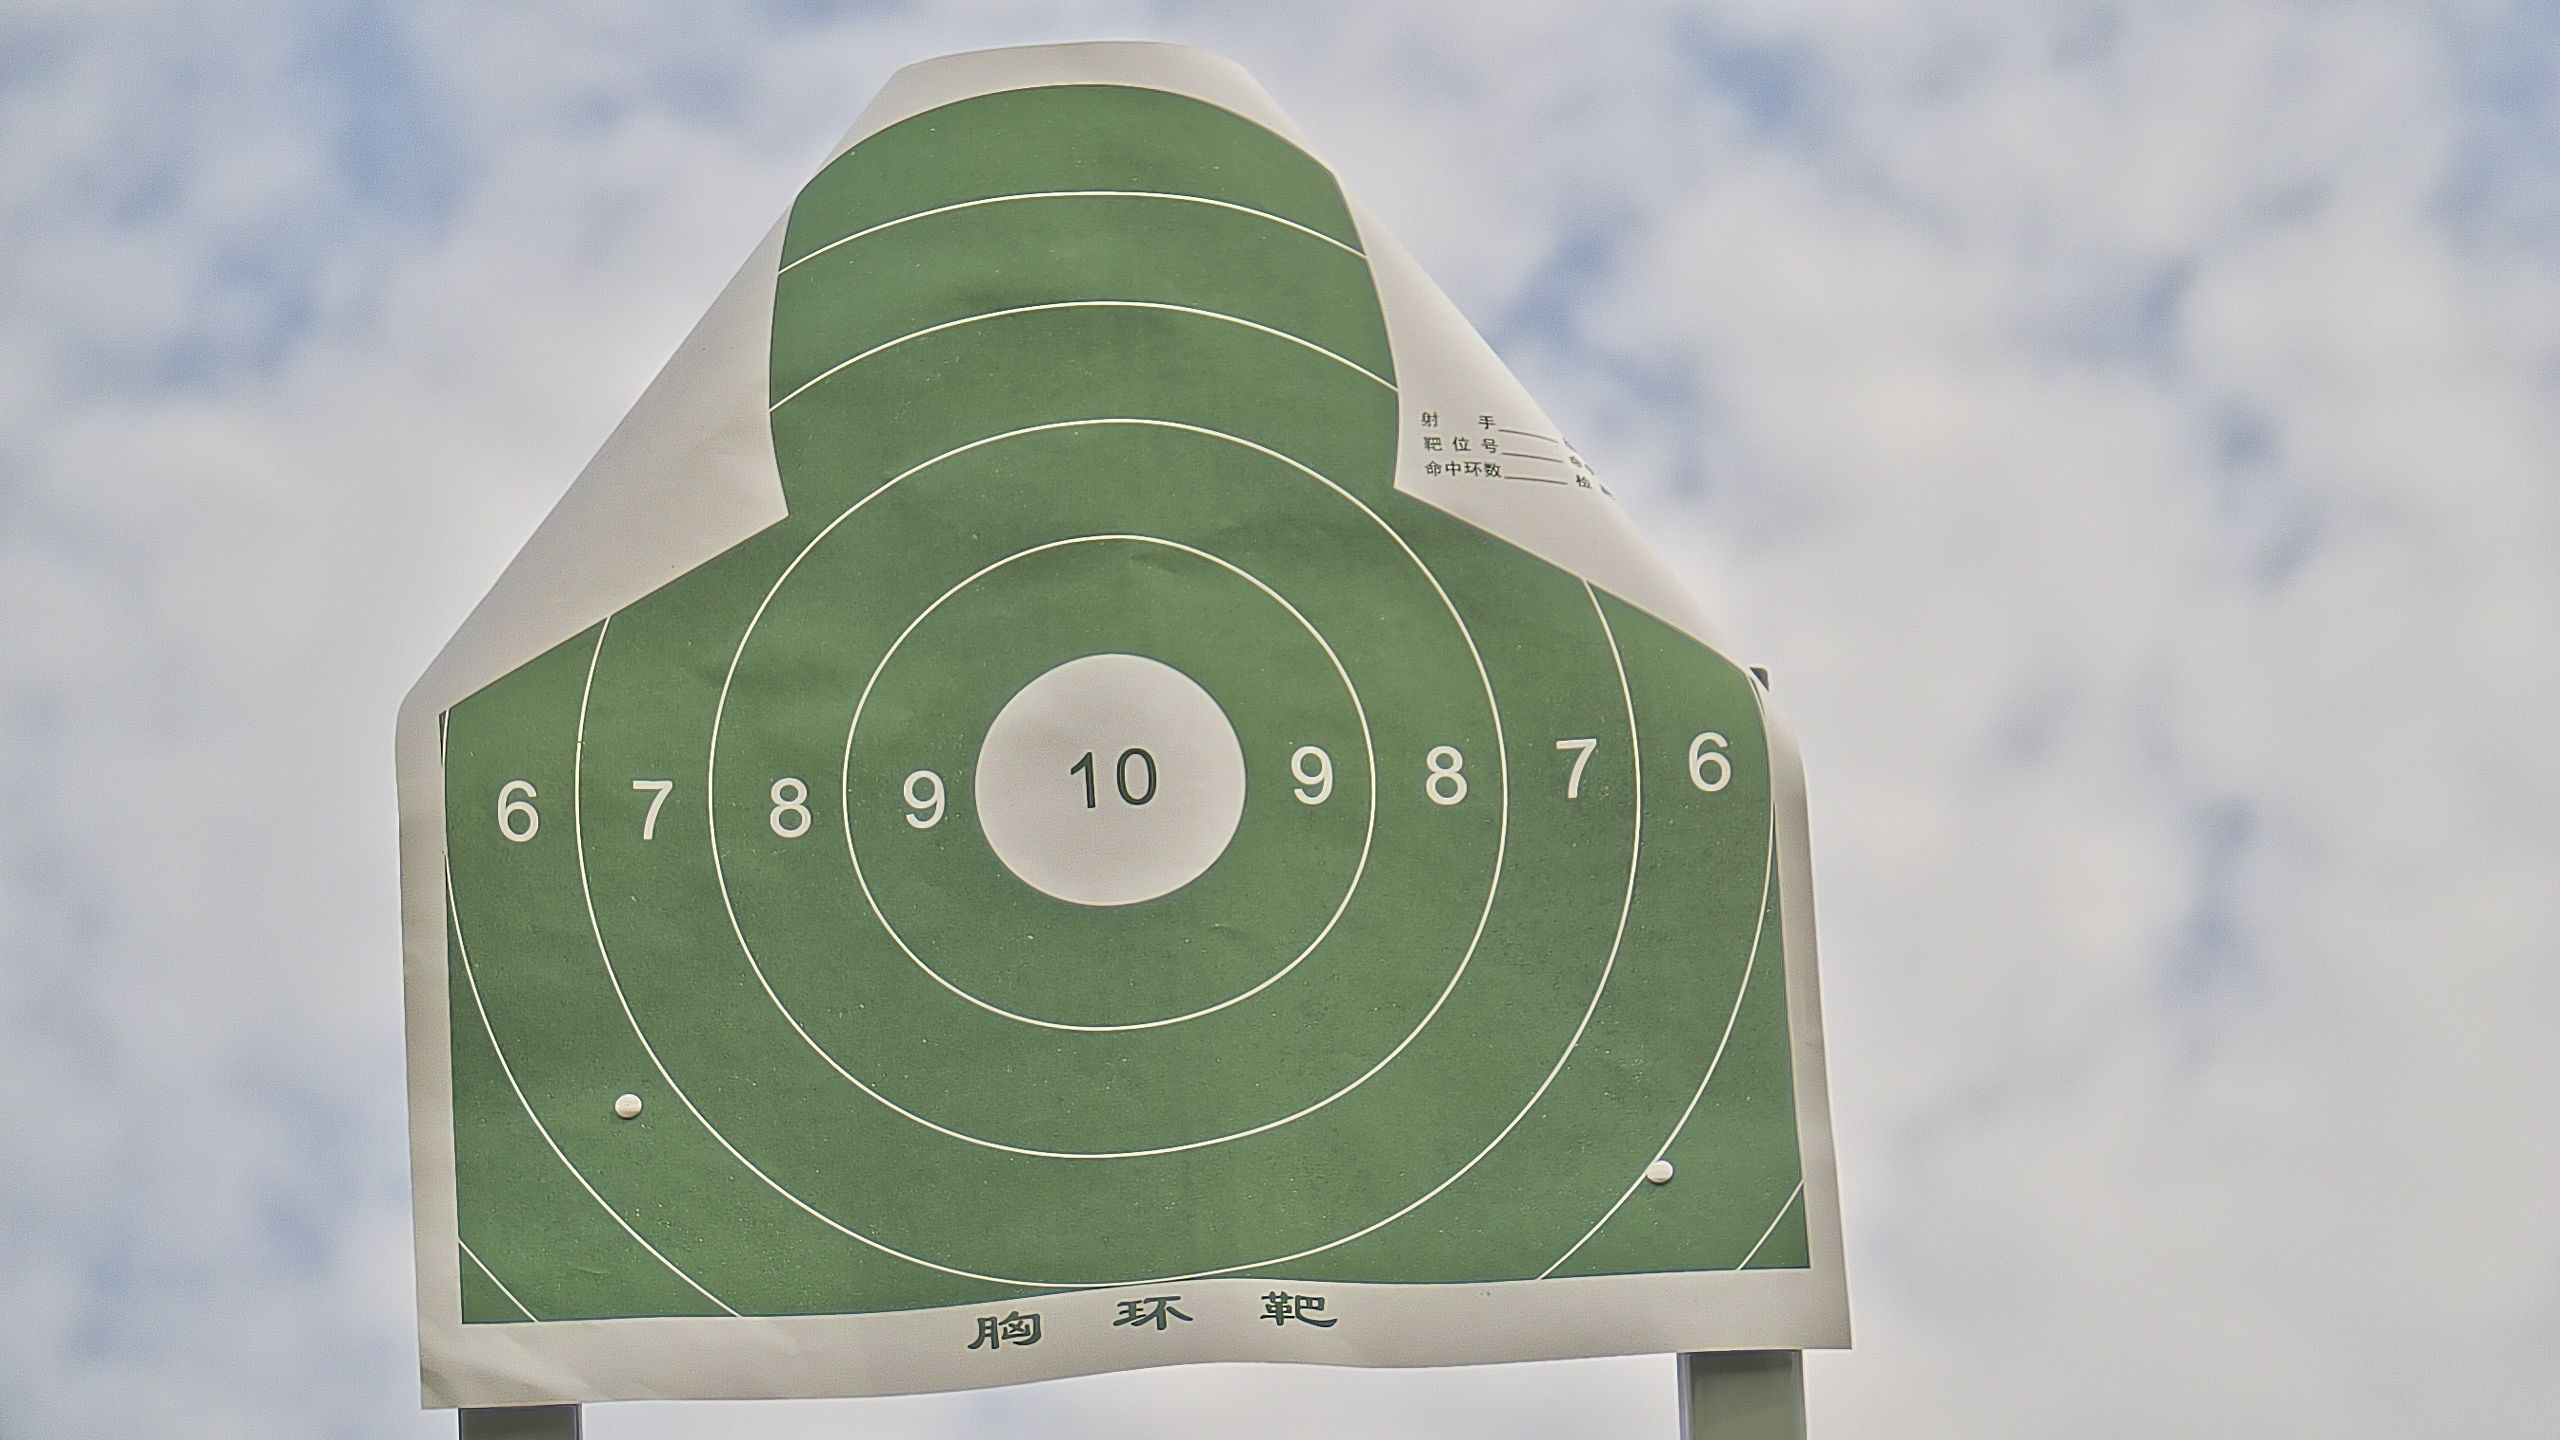target: (434, 83, 1807, 1327)
ten: (972, 649, 1248, 905)
